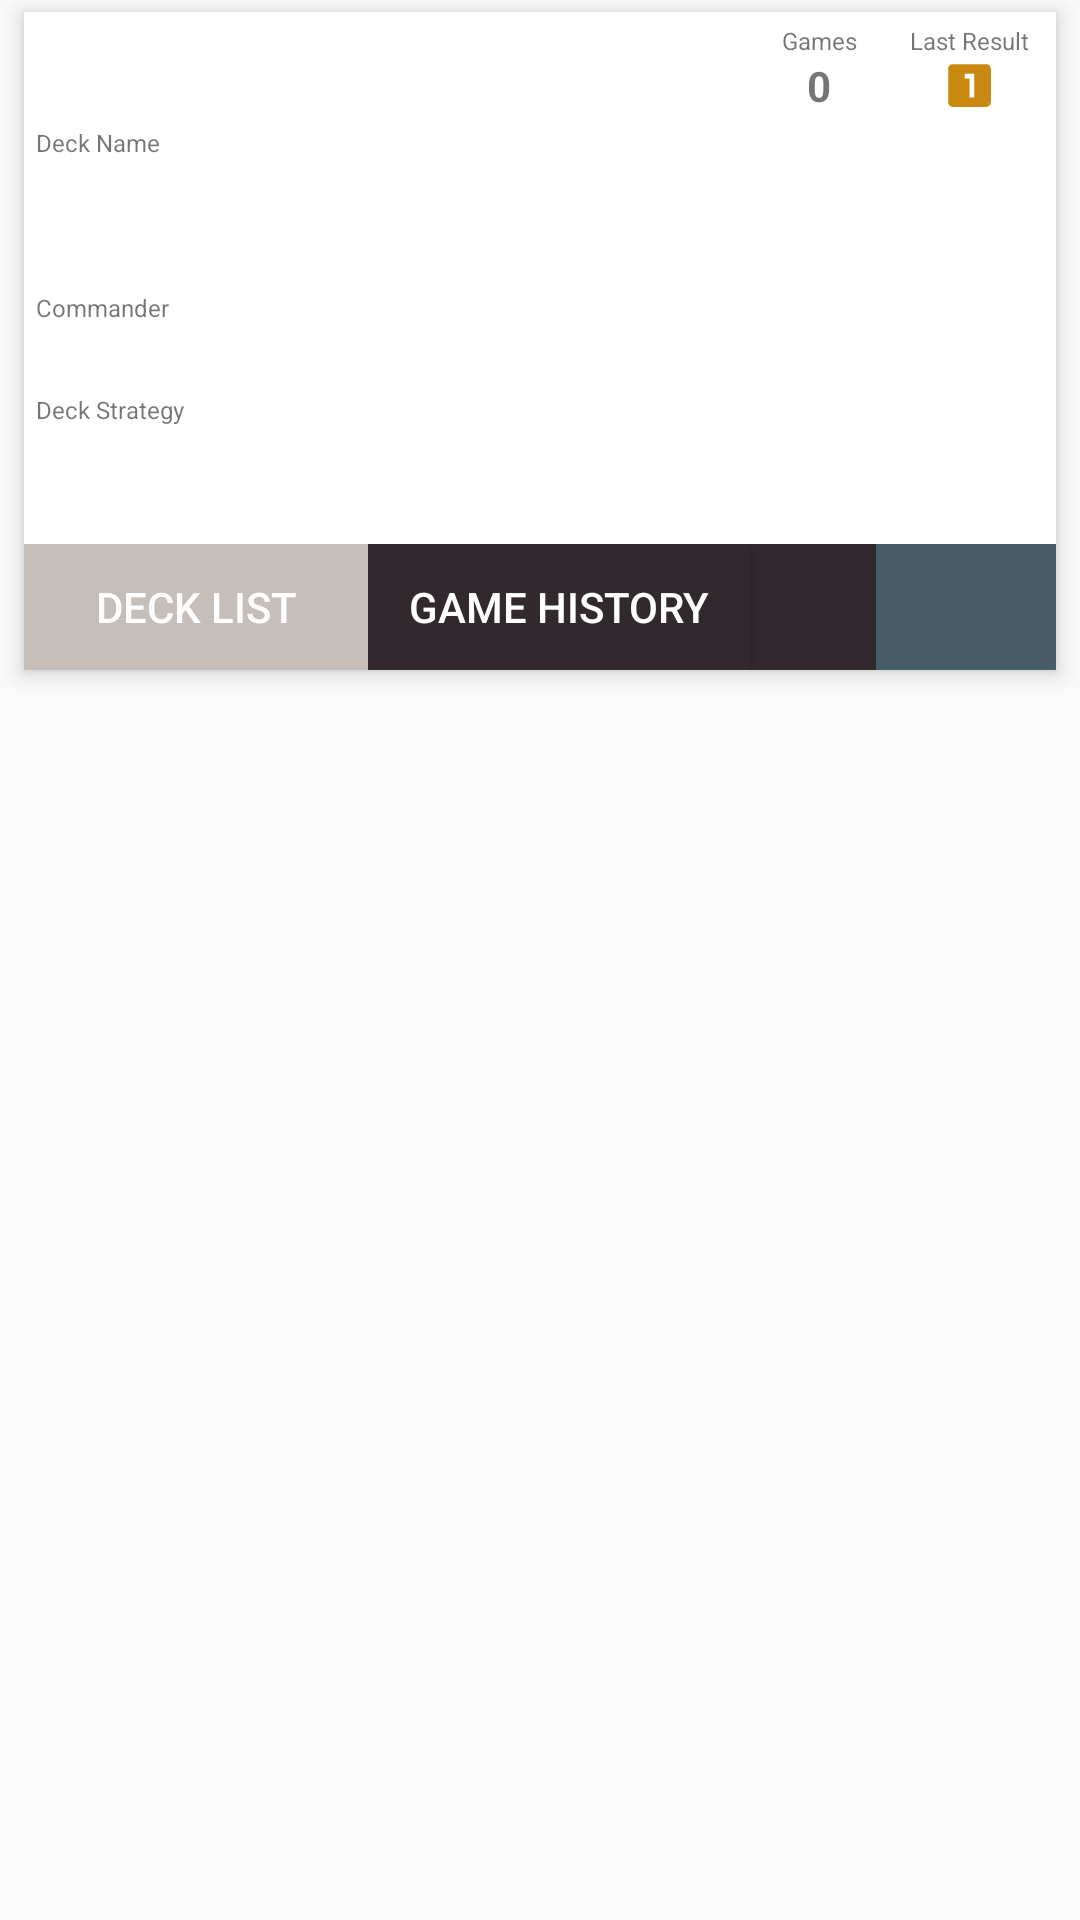

Locate icon controls on the screen. Image size 1080px×1920px, boxes as (x1=x1, y1=y1, x2=x2, y2=y2).
first place: (x1=948, y1=64, x2=991, y2=107)
